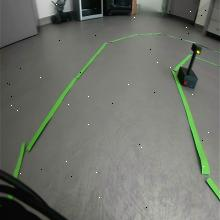green: (191, 42, 202, 56)
